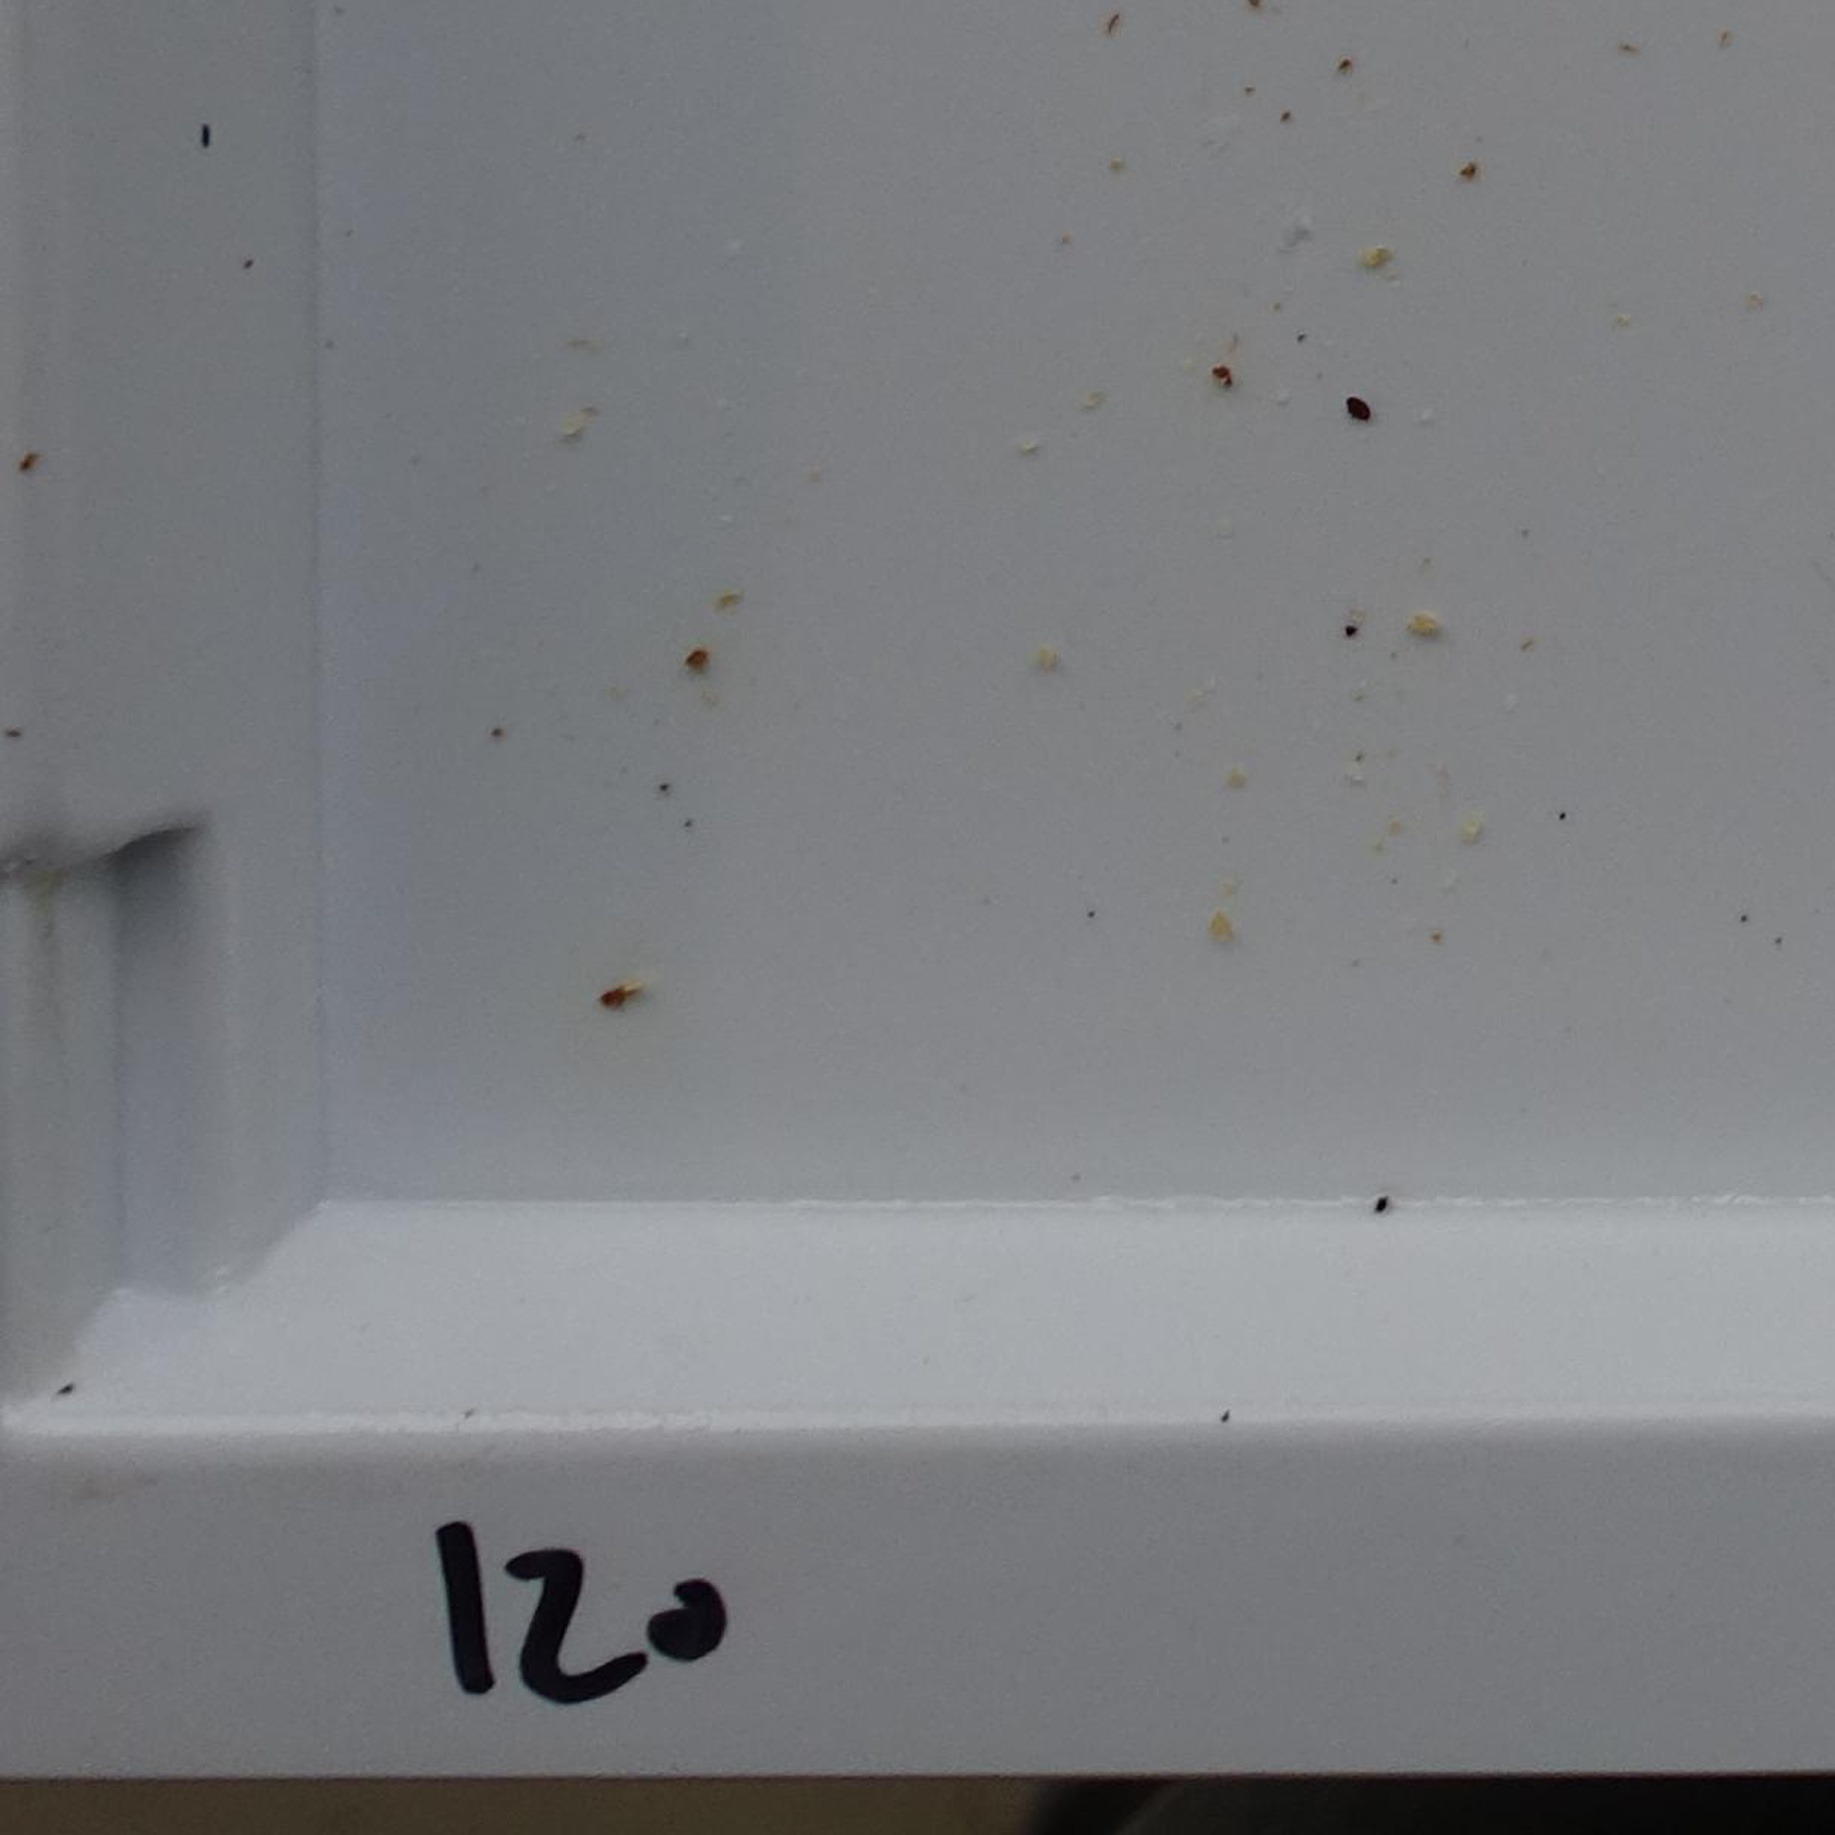Varroa: (1344, 390, 1373, 418)
